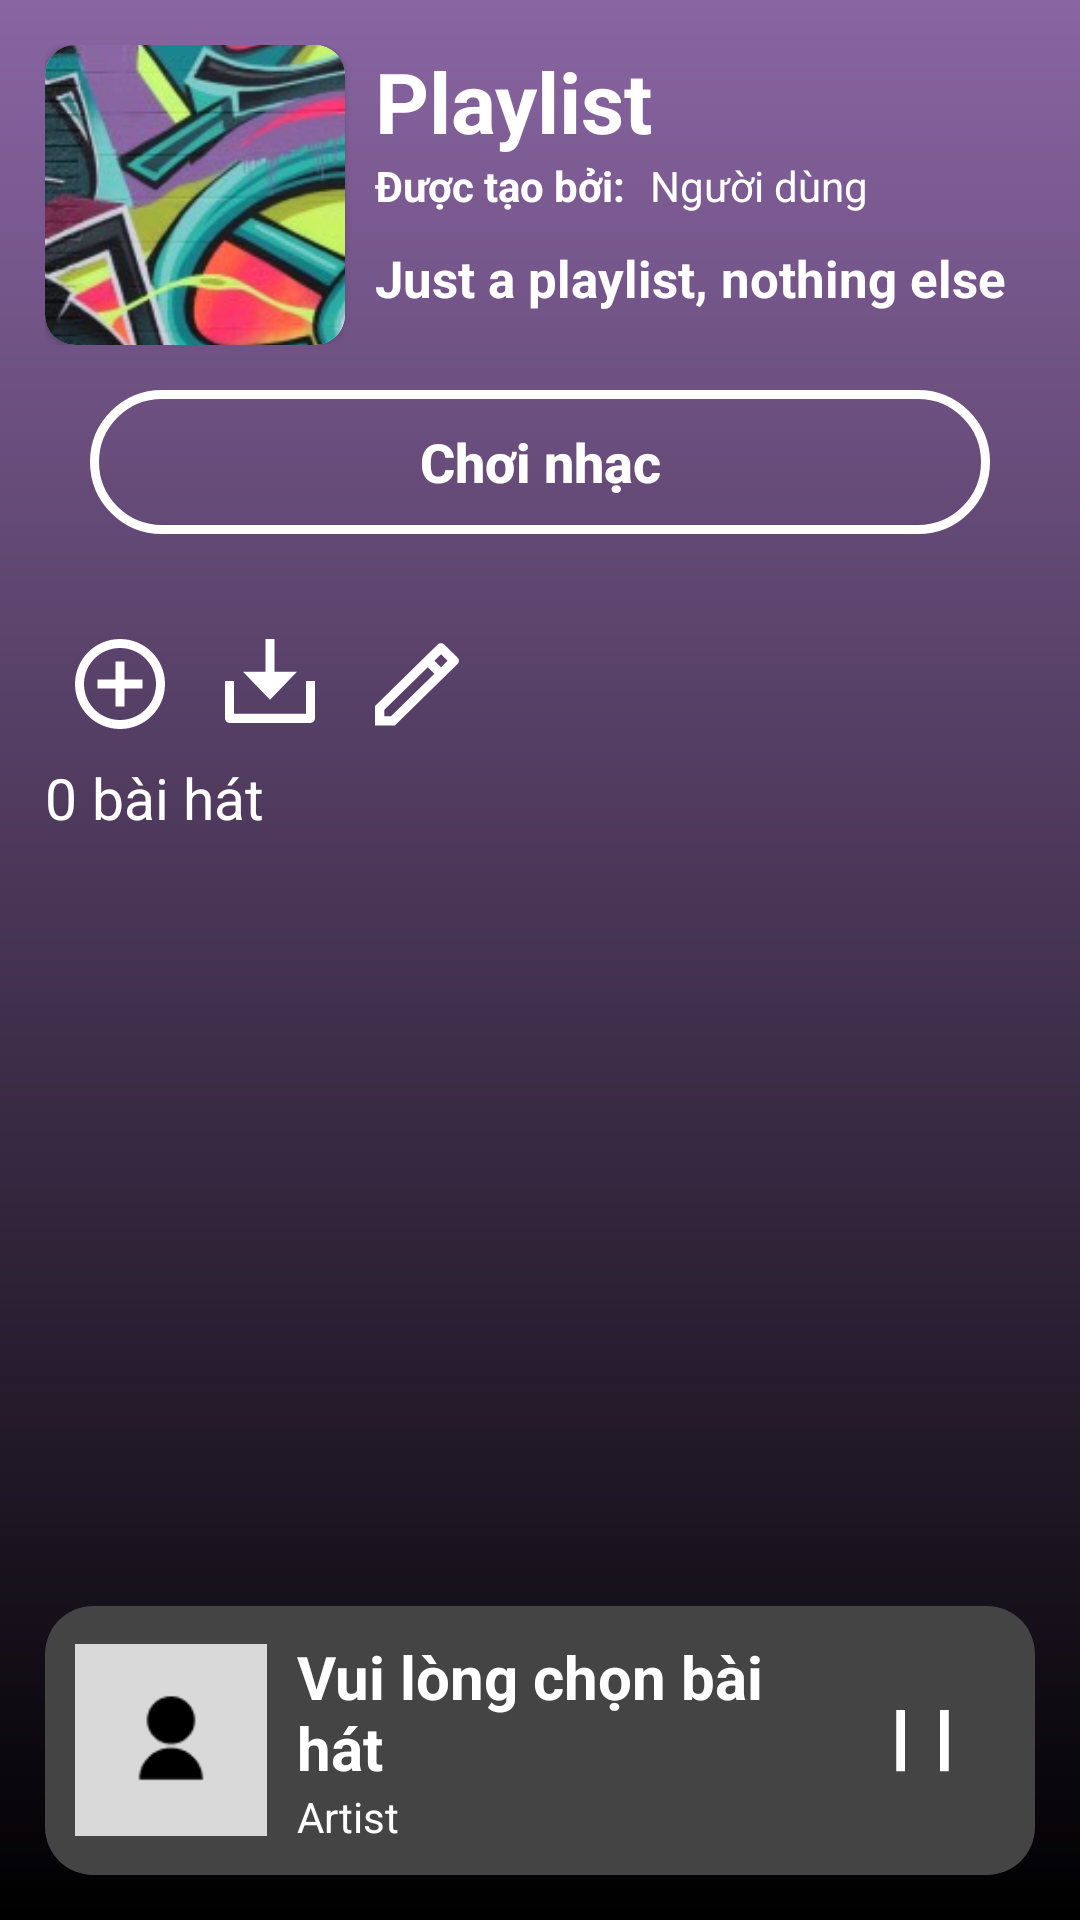

Where icons sit on this 1080x1920 app screen, as (x1, y1, x2, y2):
avt: (75, 1644, 267, 1836)
down: (225, 639, 315, 723)
edit: (375, 643, 459, 726)
pause line: (896, 1710, 949, 1772)
